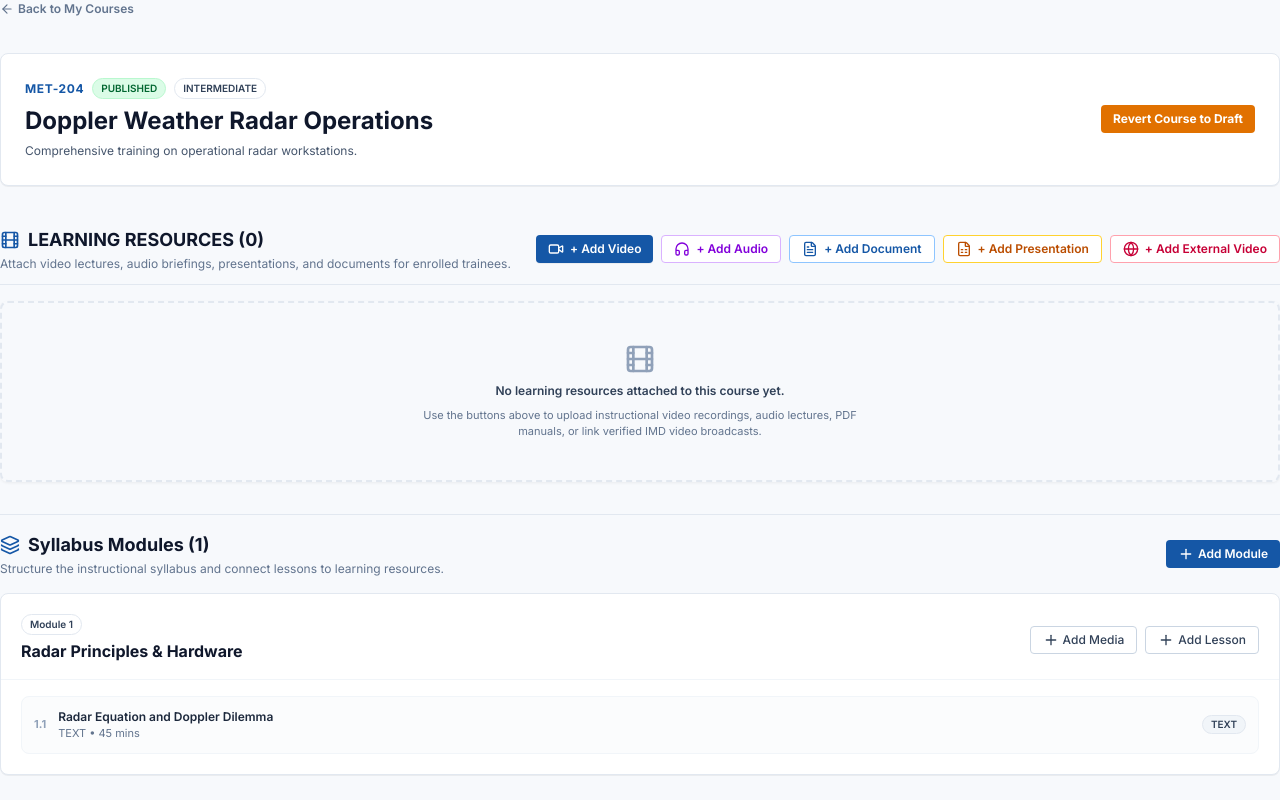
Scenario: Course Video & Audio Learning Resources Feature Suite › opens add audio modal showing audio file size info
The width and height of the screenshot is (1280, 800).
Click the button "+ Add Audio": point(721, 248) top-left (662, 234), bottom-right (781, 262)
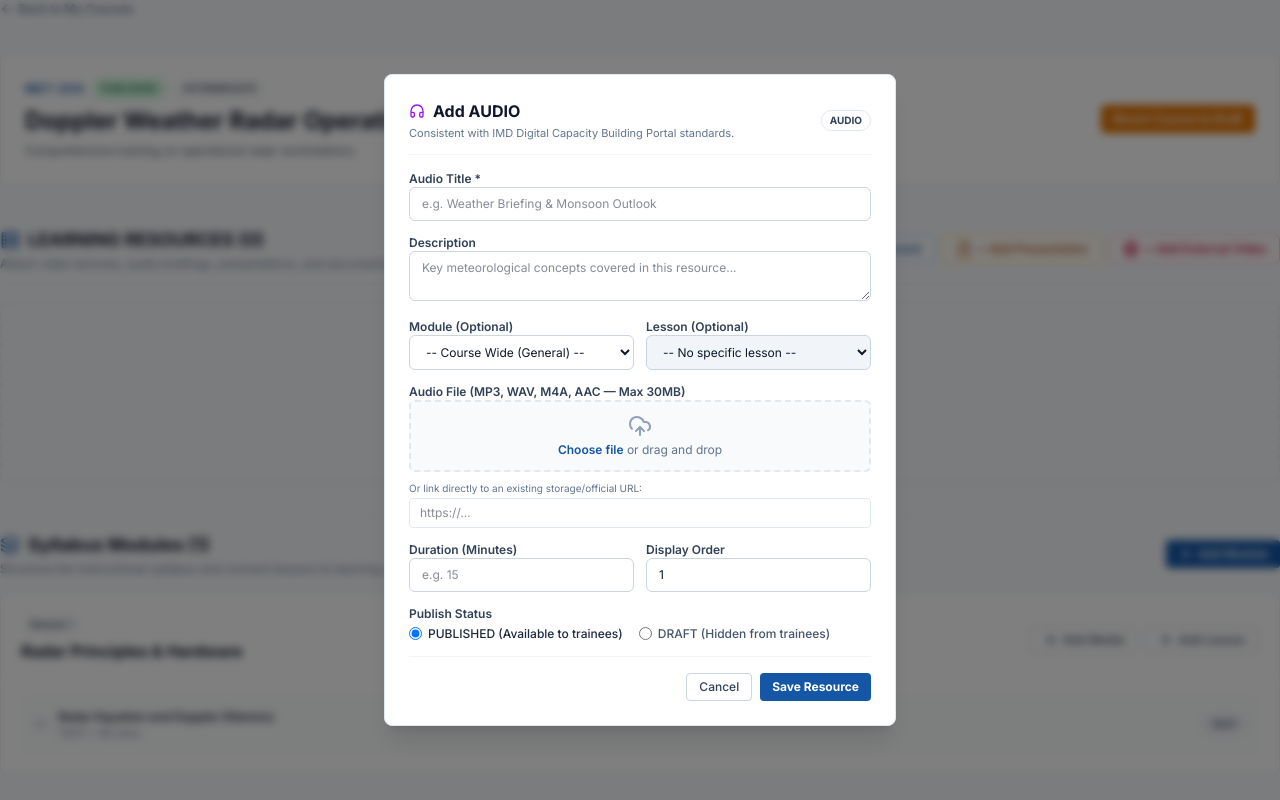
Now the text "AUDIO" is shown, box top-left (821, 110), bottom-right (871, 131)
Now the text "Audio File (MP3, WAV, M4A, AAC — Max 30MB)" is shown, box top-left (409, 384), bottom-right (686, 399)
